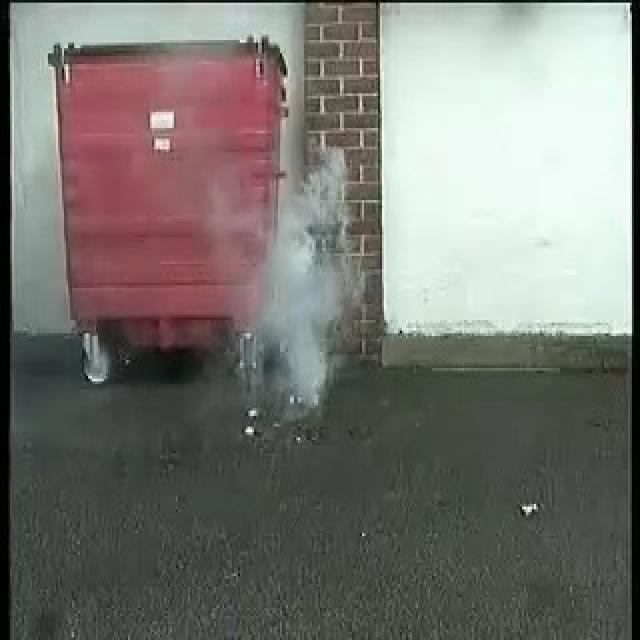Smoke: (250, 156, 342, 398)
